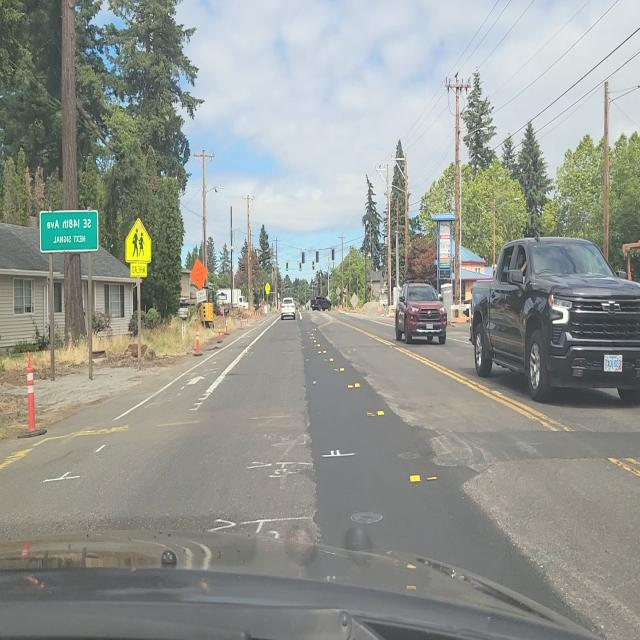car: (473, 224, 639, 400), (472, 236, 640, 400), (392, 278, 446, 346), (394, 282, 448, 346), (310, 292, 332, 312), (280, 298, 295, 324), (280, 298, 296, 321), (312, 295, 332, 312)
crosswalk-sign: (125, 218, 152, 278), (264, 280, 271, 300), (265, 282, 270, 294)
delineator: (125, 217, 152, 284), (125, 218, 152, 278), (26, 354, 36, 433), (194, 322, 202, 356), (214, 318, 223, 347), (220, 317, 226, 341), (217, 318, 222, 343), (224, 315, 229, 336), (229, 312, 233, 330), (257, 308, 261, 319), (247, 310, 251, 320), (240, 311, 242, 329)
